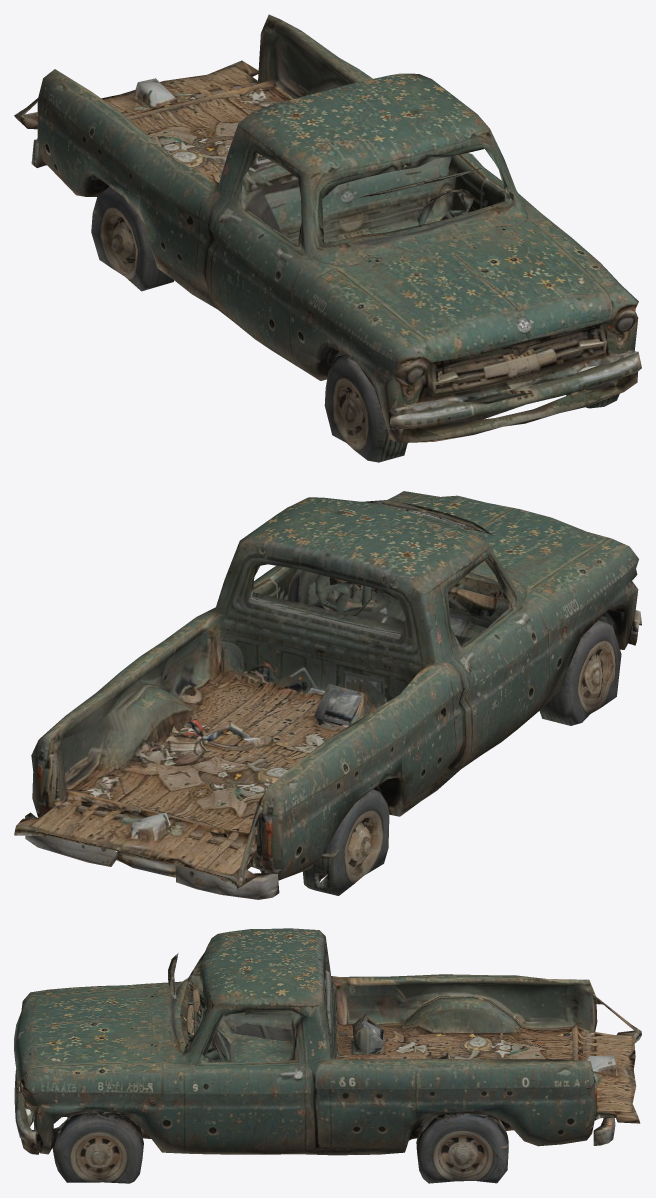
Rendered from Prop_CarPickup.glb.
3 views of the same model, one above another, from view 1: azimuth 30°, elevation 25°; view 2: azimuth 150°, elevation 25°; view 3: azimuth 270°, elevation 25° (orthographic). The views are drawn at different scales.
Parts seen in each view (by area): view 1: texture_mapping; view 2: texture_mapping; view 3: texture_mapping.
Part boxes in pixels (x1=…): texture_mapping: x1=14, y1=14, x2=641, y2=462; texture_mapping: x1=14, y1=491, x2=641, y2=899; texture_mapping: x1=14, y1=928, x2=641, y2=1183.
Size of the model in its own units: 0.3865 by 0.3173 by 0.9959.
1 material, 1 textured.
